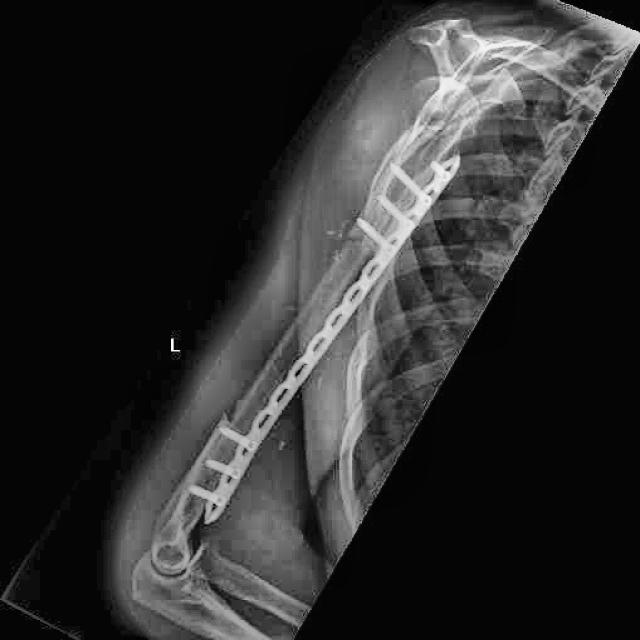humerus: (332, 222, 377, 269)
